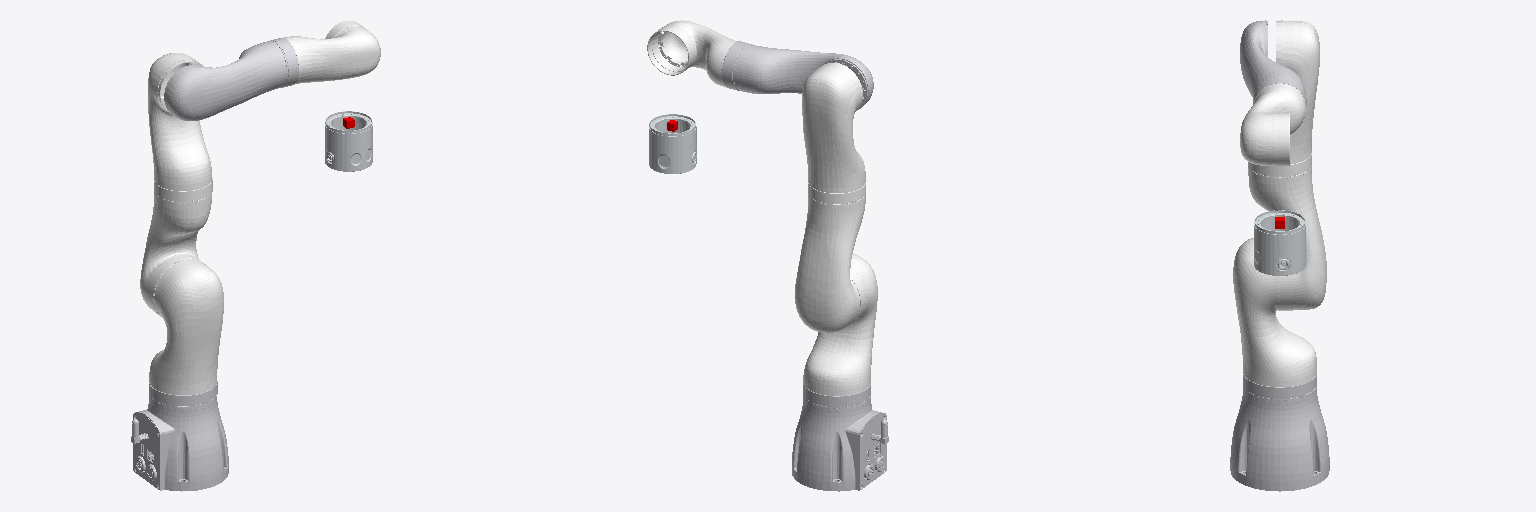
The robot description file, URDF, robot "TCB605_05N_urdf":
<?xml version="1.0" encoding="utf-8"?>
<!-- This URDF was automatically created by SolidWorks to URDF Exporter! Originally created by Stephen Brawner (brawner@gmail.com) 
     Commit Version: 1.6.0-1-g15f4949  Build Version: 1.6.7594.29634
     For more information, please see http://wiki.ros.org/sw_urdf_exporter -->
<robot
  name="TCB605_05N_urdf">
<mujoco>
    <compiler meshdir="../meshes/" discardvisual="false"/>
  </mujoco>
  <link
    name="tl_robot_link0">
    <inertial>
      <origin
        xyz="0.00189022973064888 -3.69008985921793E-05 0.0481569685981786"
        rpy="0 0 0" />
      <mass
        value="0.434350295572265" />
      <inertia
        ixx="0.000887192906816851"
        ixy="7.07343477857714E-09"
        ixz="3.81476430557286E-05"
        iyy="0.000765617722333485"
        iyz="1.15686528160416E-07"
        izz="0.000877625799397352" />
    </inertial>
    <visual>
      <origin
        xyz="0 0 0"
        rpy="0 0 0" />
      <geometry>
        <mesh
          filename="package://TCB605_05N_urdf/meshes/tl_robot_link0.STL" />
      </geometry>
      <material
        name="">
        <color
          rgba="0.866666666666667 0.866666666666667 0.890196078431372 1" />
      </material>
    </visual>
    <collision>
      <origin
        xyz="0 0 0"
        rpy="0 0 0" />
      <geometry>
        <mesh
          filename="package://TCB605_05N_urdf/meshes/tl_robot_link0.STL" />
      </geometry>
    </collision>
  </link>
  <link
    name="tl_robot_link1">
    <inertial>
      <origin
        xyz="3.7218093373499E-06 -0.0143763102130205 0.0679327191928071"
        rpy="0 0 0" />
      <mass
        value="0.143668667698126" />
      <inertia
        ixx="0.000370458291801595"
        ixy="1.6893224509471E-08"
        ixz="-4.60828846393308E-08"
        iyy="0.00039141746393657"
        iyz="5.90771868900806E-05"
        izz="0.00015862228074312" />
    </inertial>
    <visual>
      <origin
        xyz="0 0 0"
        rpy="0 0 0" />
      <geometry>
        <mesh
          filename="package://TCB605_05N_urdf/meshes/tl_robot_link1.STL" />
      </geometry>
      <material
        name="">
        <color
          rgba="1 1 1 1" />
      </material>
    </visual>
    <collision>
      <origin
        xyz="0 0 0"
        rpy="0 0 0" />
      <geometry>
        <mesh
          filename="package://TCB605_05N_urdf/meshes/tl_robot_link1.STL" />
      </geometry>
    </collision>
  </link>
  <joint
    name="tl_robot_joint1"
    type="revolute">
    <origin
      xyz="0 0 0.1224"
      rpy="0 0 0" />
    <parent
      link="tl_robot_link0" />
    <child
      link="tl_robot_link1" />
    <axis
      xyz="0 0 1" />
    <limit
      lower="-3.141592654"
      upper="3.141592654"
      effort="0"
      velocity="0" />
  </joint>
  <link
    name="tl_robot_link2">
    <inertial>
      <origin
        xyz="-6.10738286120151E-05 -0.128787325016098 0.00109639307351774"
        rpy="0 0 0" />
      <mass
        value="0.624550132457111" />
      <inertia
        ixx="0.00159281855352929"
        ixy="-2.65336717661726E-06"
        ixz="-5.44603960861182E-07"
        iyy="0.000566048649905295"
        iyz="-5.99019551476644E-05"
        izz="0.00164472570850249" />
    </inertial>
    <visual>
      <origin
        xyz="0 0 0"
        rpy="0 0 0" />
      <geometry>
        <mesh
          filename="package://TCB605_05N_urdf/meshes/tl_robot_link2.STL" />
      </geometry>
      <material
        name="">
        <color
          rgba="1 1 1 1" />
      </material>
    </visual>
    <collision>
      <origin
        xyz="0 0 0"
        rpy="0 0 0" />
      <geometry>
        <mesh
          filename="package://TCB605_05N_urdf/meshes/tl_robot_link2.STL" />
      </geometry>
    </collision>
  </link>
  <joint
    name="tl_robot_joint2"
    type="revolute">
    <origin
      xyz="0 0.0155 0.1196"
      rpy="-1.5708 0 0" />
    <parent
      link="tl_robot_link1" />
    <child
      link="tl_robot_link2" />
    <axis
      xyz="0 0 -1" />
    <limit
      lower="-2.35619449"
      upper="2.35619449"
      effort="0"
      velocity="0" />
  </joint>
  <link
    name="tl_robot_link3">
    <inertial>
      <origin
        xyz="-1.19191527833389E-05 0.056456496433439 0.000978875699675572"
        rpy="0 0 0" />
      <mass
        value="0.248926311027603" />
      <inertia
        ixx="0.000564703636390126"
        ixy="8.13821962786032E-08"
        ixz="-3.14726613958361E-09"
        iyy="0.000165573936491457"
        iyz="0.000108630620818613"
        izz="0.000576141608695443" />
    </inertial>
    <visual>
      <origin
        xyz="0 0 0"
        rpy="0 0 0" />
      <geometry>
        <mesh
          filename="package://TCB605_05N_urdf/meshes/tl_robot_link3.STL" />
      </geometry>
      <material
        name="">
        <color
          rgba="0.866666666666667 0.866666666666667 0.890196078431372 1" />
      </material>
    </visual>
    <collision>
      <origin
        xyz="0 0 0"
        rpy="0 0 0" />
      <geometry>
        <mesh
          filename="package://TCB605_05N_urdf/meshes/tl_robot_link3.STL" />
      </geometry>
    </collision>
  </link>
  <joint
    name="tl_robot_joint3"
    type="revolute">
    <origin
      xyz="0 -0.27 -0.032"
      rpy="3.1416 0 1.5708" />
    <parent
      link="tl_robot_link2" />
    <child
      link="tl_robot_link3" />
    <axis
      xyz="0 0 1" />
    <limit
      lower="-0.959931089"
      upper="4.101523742"
      effort="0"
      velocity="0" />
  </joint>
  <link
    name="tl_robot_link4">
    <inertial>
      <origin
        xyz="7.30989630030994E-05 -0.0127397890760003 0.0508664023066245"
        rpy="0 0 0" />
      <mass
        value="0.0743245872304641" />
      <inertia
        ixx="9.83278941541423E-05"
        ixy="1.15335209773487E-08"
        ixz="8.06259531540886E-10"
        iyy="0.000100984430595602"
        iyz="2.06849546653688E-05"
        izz="4.54281246510046E-05" />
    </inertial>
    <visual>
      <origin
        xyz="0 0 0"
        rpy="0 0 0" />
      <geometry>
        <mesh
          filename="package://TCB605_05N_urdf/meshes/tl_robot_link4.STL" />
      </geometry>
      <material
        name="">
        <color
          rgba="1 1 1 1" />
      </material>
    </visual>
    <collision>
      <origin
        xyz="0 0 0"
        rpy="0 0 0" />
      <geometry>
        <mesh
          filename="package://TCB605_05N_urdf/meshes/tl_robot_link4.STL" />
      </geometry>
    </collision>
  </link>
  <joint
    name="tl_robot_joint4"
    type="revolute">
    <origin
      xyz="0 0.1425 -0.0165"
      rpy="-1.5708 0 0" />
    <parent
      link="tl_robot_link3" />
    <child
      link="tl_robot_link4" />
    <axis
      xyz="0 0 1" />
    <limit
      lower="-3.141592654"
      upper="3.141592654"
      effort="0"
      velocity="0" />
  </joint>
  <link
    name="tl_robot_link5">
    <inertial>
      <origin
        xyz="2.82423537420565E-06 -0.0388457721241132 0.00384336994578215"
        rpy="0 0 0" />
      <mass
        value="0.0660354159723466" />
      <inertia
        ixx="8.4574488237958E-05"
        ixy="-2.4508278536873E-08"
        ixz="-1.17932828369849E-08"
        iyy="4.16861438377778E-05"
        iyz="-1.71276159454655E-05"
        izz="8.42535007410033E-05" />
    </inertial>
    <visual>
      <origin
        xyz="0 0 0"
        rpy="0 0 0" />
      <geometry>
        <mesh
          filename="package://TCB605_05N_urdf/meshes/tl_robot_link5.STL" />
      </geometry>
      <material
        name="">
        <color
          rgba="1 1 1 1" />
      </material>
    </visual>
    <collision>
      <origin
        xyz="0 0 0"
        rpy="0 0 0" />
      <geometry>
        <mesh
          filename="package://TCB605_05N_urdf/meshes/tl_robot_link5.STL" />
      </geometry>
    </collision>
  </link>
  <joint
    name="tl_robot_joint5"
    type="revolute">
    <origin
      xyz="0 0.0115 0.0875"
      rpy="-1.5708 1.5708 0" />
    <parent
      link="tl_robot_link4" />
    <child
      link="tl_robot_link5" />
    <axis
      xyz="0 0 1" />
    <limit
      lower="-3.752457892"
      upper="0.610865238"
      effort="0"
      velocity="0" />
  </joint>
  <link
    name="tl_robot_link6">
    <inertial>
      <origin
        xyz="-1.07941948689608E-05 -0.000108615829968031 0.0288499165129859"
        rpy="0 0 0" />
      <mass
        value="0.167037727783896" />
      <inertia
        ixx="8.11217682166335E-05"
        ixy="2.22686831419763E-07"
        ixz="-4.77818472395434E-09"
        iyy="8.27878360135466E-05"
        iyz="1.82108936172585E-07"
        izz="9.2704570328106E-05" />
    </inertial>
    <visual>
      <origin
        xyz="0 0 0"
        rpy="0 0 0" />
      <geometry>
        <mesh
          filename="package://TCB605_05N_urdf/meshes/tl_robot_link6.STL" />
      </geometry>
      <material
        name="">
        <color
          rgba="0.898039215686275 0.917647058823529 0.929411764705882 1" />
      </material>
    </visual>
    <collision>
      <origin
        xyz="0 0 0"
        rpy="0 0 0" />
      <geometry>
        <mesh
          filename="package://TCB605_05N_urdf/meshes/tl_robot_link6.STL" />
      </geometry>
    </collision>
  </link>
  <joint
    name="tl_robot_joint6"
    type="revolute">
    <origin
      xyz="0 -0.1015 -0.0115"
      rpy="1.5708 0 0" />
    <parent
      link="tl_robot_link5" />
    <child
      link="tl_robot_link6" />
    <axis
      xyz="0 0 1" />
    <limit
      lower="-3.141592654"
      upper="3.141592654"
      effort="0"
      velocity="0" />
  </joint>

  <!-- 修正末端180度偏差的虚拟关节和连杆 -->
  <joint
      name="tl_robot_joint_end"
      type="fixed">
      <origin
          xyz="0 0 0"
          rpy="0 0 3.14159" />  <!-- 绕Z轴旋转180度修正 -->
      <parent
          link="tl_robot_link6" />
      <child
          link="tl_robot_link_end" />
      <axis
          xyz="0 0 1" />
  </joint>

  <link
      name="tl_robot_link_end">
      <inertial>
          <origin
              xyz="0 0 0"
              rpy="0 0 0" />
          <mass
              value="0.001" />
          <inertia
              ixx="1e-6"
              ixy="0"
              ixz="0"
              iyy="1e-6"
              iyz="0"
              izz="1e-6" />
      </inertial>
      <visual>
          <origin
              xyz="0 0 0"
              rpy="0 0 0" />
          <geometry>
              <box size="0.01 0.01 0.01" />  <!-- 小方块用于可视化 -->
          </geometry>
          <material
              name="eef_color">
              <color
                  rgba="1 0 0 0.5" />  <!-- 红色半透明 -->
          </material>
      </visual>
      <collision>
          <origin
              xyz="0 0 0"
              rpy="0 0 0" />
          <geometry>
              <box size="0.001 0.001 0.001" />  <!-- 很小的碰撞体 -->
          </geometry>
      </collision>
  </link>
</robot>

--- Facts derived from the render (not from the file) ---
Views: 3 orthographic renders of the robot side by side, from view 1: azimuth 30°, elevation 25°; view 2: azimuth 150°, elevation 25°; view 3: azimuth 270°, elevation 25°.
Model TCB605_05N_urdf with 8 links and 7 joints (6 revolute, 1 fixed), rooted at tl_robot_link0, posed all joints at 0.
Links seen in each view (by area): view 1: tl_robot_link2, tl_robot_link1, tl_robot_link0, tl_robot_link3, tl_robot_link4, tl_robot_link6; view 2: tl_robot_link2, tl_robot_link0, tl_robot_link1, tl_robot_link3, tl_robot_link4, tl_robot_link6; view 3: tl_robot_link0, tl_robot_link2, tl_robot_link1, tl_robot_link4, tl_robot_link6, tl_robot_link3.
Boxes of the visible links, bbox=[...] form: tl_robot_link2: bbox=[140, 53, 212, 308]; tl_robot_link1: bbox=[147, 254, 223, 394]; tl_robot_link0: bbox=[131, 381, 228, 491]; tl_robot_link3: bbox=[164, 38, 298, 120]; tl_robot_link4: bbox=[284, 20, 380, 84]; tl_robot_link6: bbox=[325, 111, 372, 171]; tl_robot_link2: bbox=[795, 63, 865, 332]; tl_robot_link0: bbox=[792, 384, 888, 491]; tl_robot_link1: bbox=[803, 254, 877, 395]; tl_robot_link3: bbox=[722, 41, 873, 109]; tl_robot_link4: bbox=[647, 20, 736, 87]; tl_robot_link6: bbox=[649, 114, 696, 173]; tl_robot_link0: bbox=[1230, 374, 1329, 491]; tl_robot_link2: bbox=[1248, 20, 1326, 309]; tl_robot_link1: bbox=[1233, 238, 1316, 386]; tl_robot_link4: bbox=[1240, 83, 1305, 165]; tl_robot_link6: bbox=[1254, 210, 1305, 275]; tl_robot_link3: bbox=[1240, 20, 1306, 107].
Bounding box of the posed robot: 0.3295 × 0.1099 × 0.546 m (x, y, z).
Meshes: 7 distinct files referenced, 6 mesh visuals loaded (6 binary STL); not drawn: 1 (reference not matched to a file when rendering).
